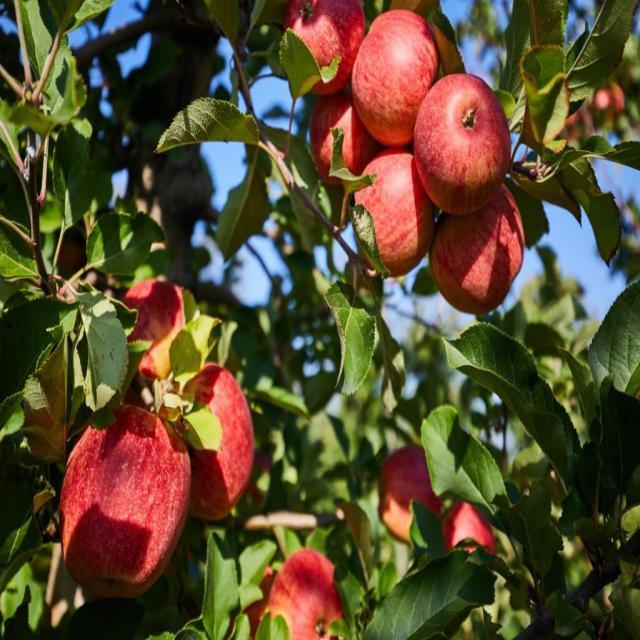Red Apple: (53, 390, 190, 585), (159, 362, 255, 499), (432, 173, 527, 310), (417, 75, 512, 206), (357, 3, 443, 145), (348, 139, 438, 274), (278, 1, 371, 106), (123, 277, 201, 396), (266, 549, 355, 640), (313, 77, 375, 174), (377, 447, 436, 537), (436, 488, 488, 571)
